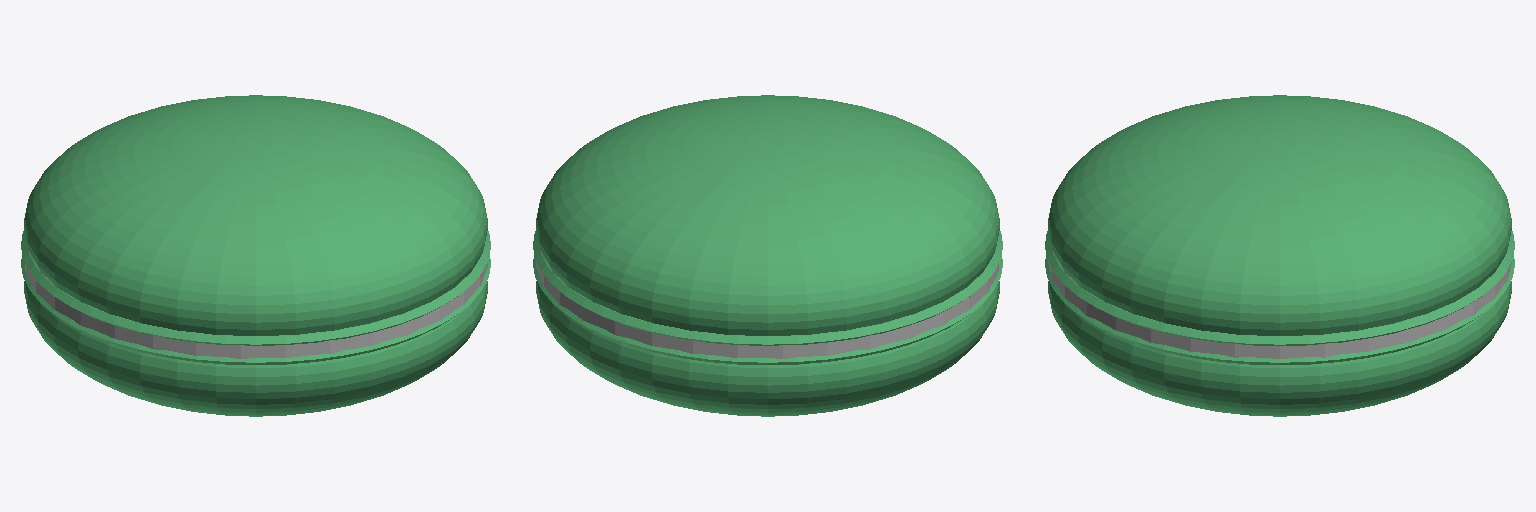
Rendered from makalong5.obj.
3 views of the same model, side by side, from view 1: azimuth 30°, elevation 25°; view 2: azimuth 150°, elevation 25°; view 3: azimuth 270°, elevation 25° (orthographic).
Visible parts, largest first — view 1: Sphere_Sphere.001, Sphere.001_Sphere.002, Cylinder, Torus.001, Torus; view 2: Sphere_Sphere.001, Sphere.001_Sphere.002, Cylinder, Torus.001, Torus; view 3: Sphere_Sphere.001, Sphere.001_Sphere.002, Cylinder, Torus.001, Torus.
Part boxes in pixels (x1,y1,x2,y2): Sphere_Sphere.001: (24,95,487,335); Sphere.001_Sphere.002: (24,281,487,416); Cylinder: (25,262,487,358); Torus.001: (21,231,490,345); Torus: (21,256,490,364); Sphere_Sphere.001: (536,95,999,335); Sphere.001_Sphere.002: (536,281,999,416); Cylinder: (536,262,998,358); Torus.001: (533,231,1002,345); Torus: (533,256,1002,364); Sphere_Sphere.001: (1048,95,1511,335); Sphere.001_Sphere.002: (1048,281,1511,416); Cylinder: (1048,262,1511,358); Torus.001: (1045,231,1514,345); Torus: (1045,256,1514,364).
Bounding box in the file's own units: 2.02 × 1.1 × 2.02.